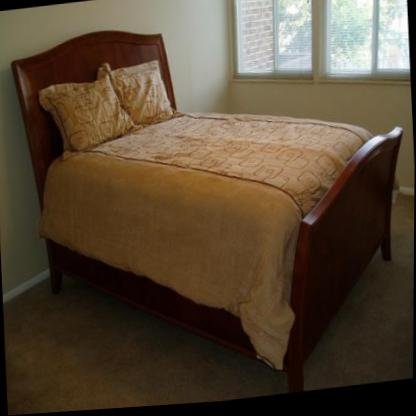Bed: (6, 0, 415, 416)
Window: (220, 0, 411, 106)
